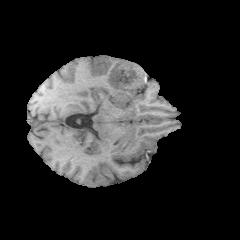glioma: (107, 58, 147, 105)
